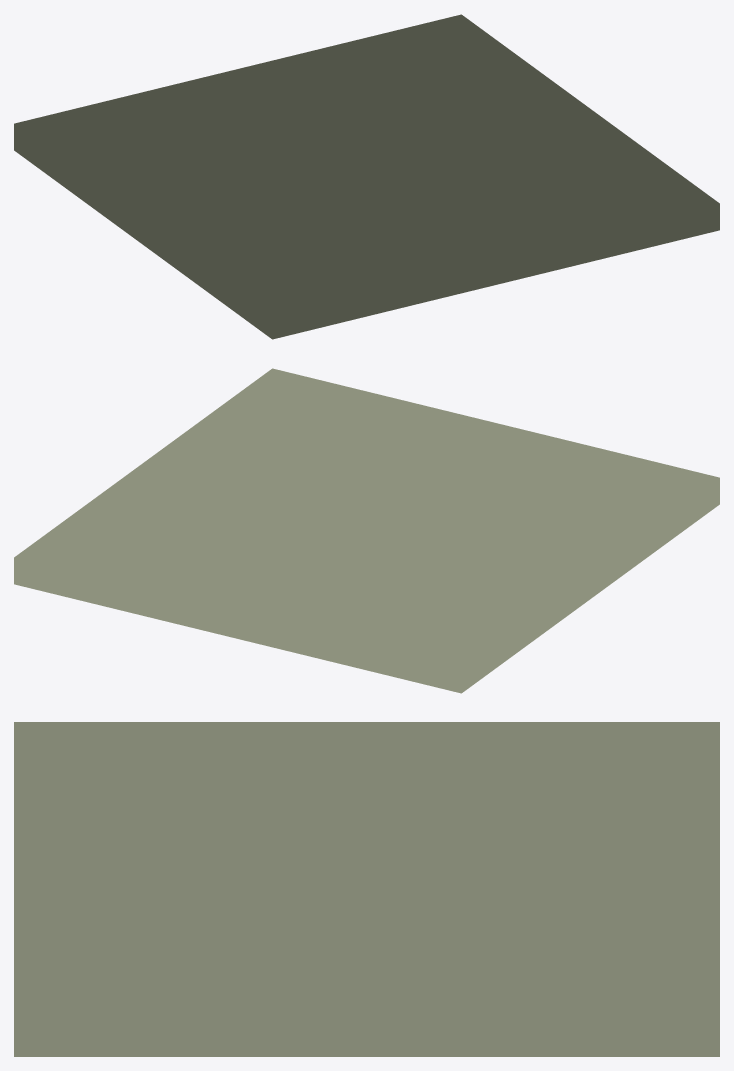
The model's file is floor.dae.
3 views of the same model, one above another, from view 1: azimuth 30°, elevation 25°; view 2: azimuth 150°, elevation 25°; view 3: azimuth 270°, elevation 25° (orthographic). The views are drawn at different scales.
Parts seen in each view (by area): view 1: grid40-0; view 2: grid40-0; view 3: grid40-0.
Part boxes in pixels (x1,y1,x2,y2): grid40-0: (14, 14, 719, 339); grid40-0: (14, 368, 719, 693); grid40-0: (14, 722, 719, 1056).
Size of the model in its own units: 164 by 9.37 by 164.
